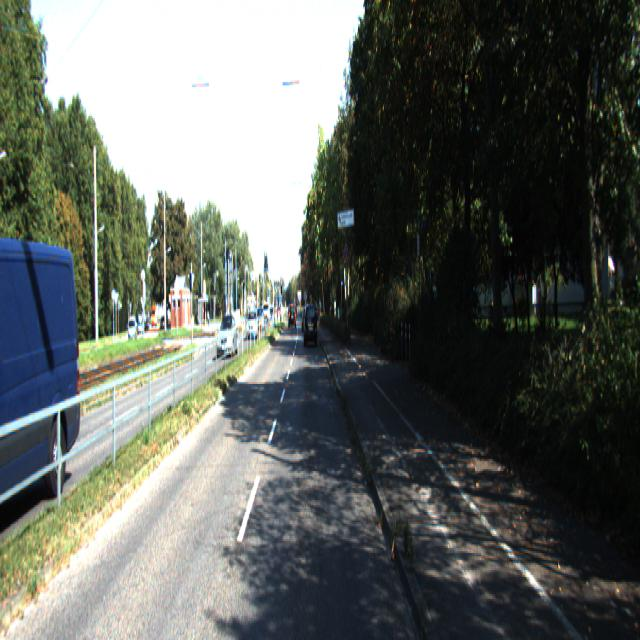Car: (0, 227, 88, 541), (216, 314, 238, 360), (304, 304, 318, 348)
